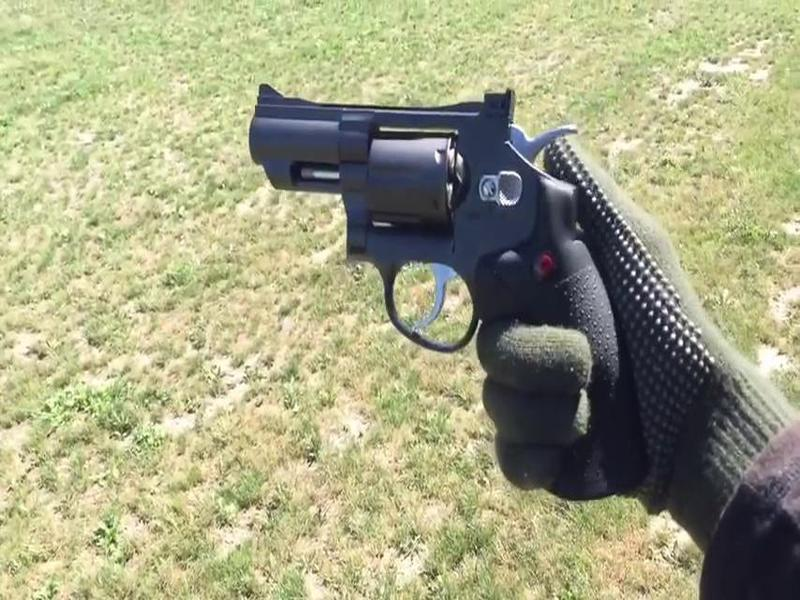Revolver: (226, 41, 657, 530)
